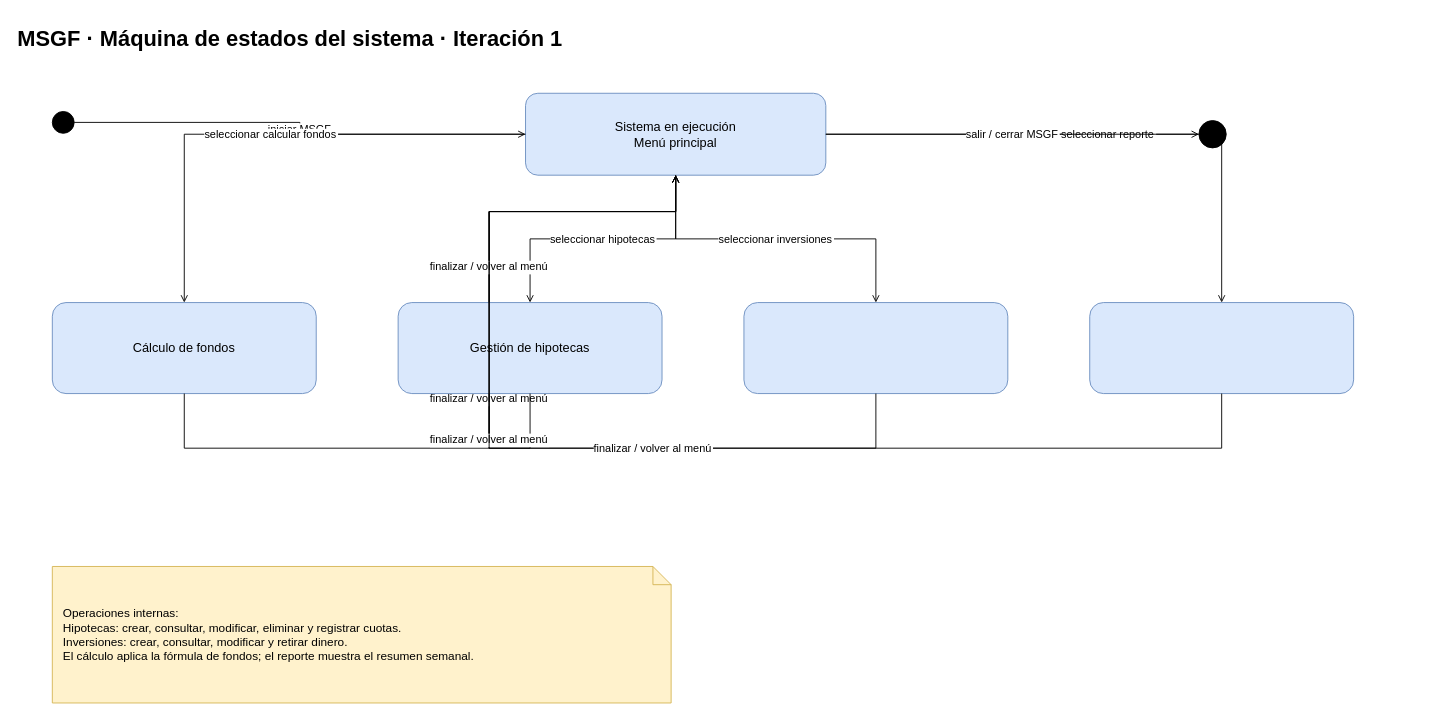
The diagram is 1432 pixels wide and 719 high, and some of its shapes have lost their labels. Each missing label, with the centre of its shape:
"Generación de reporte" goes at (x=1221, y=348).
"Gestión de inversiones" goes at (x=875, y=348).
